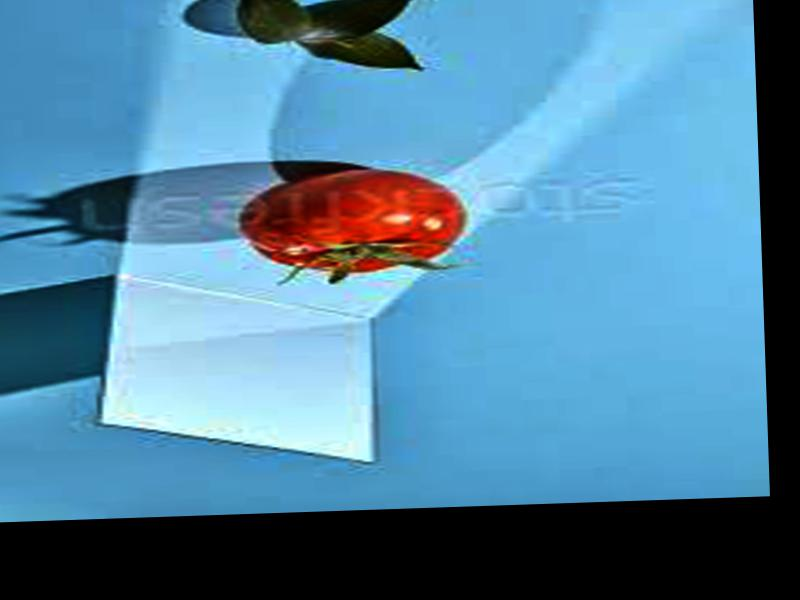Tomato: (237, 165, 473, 277)
